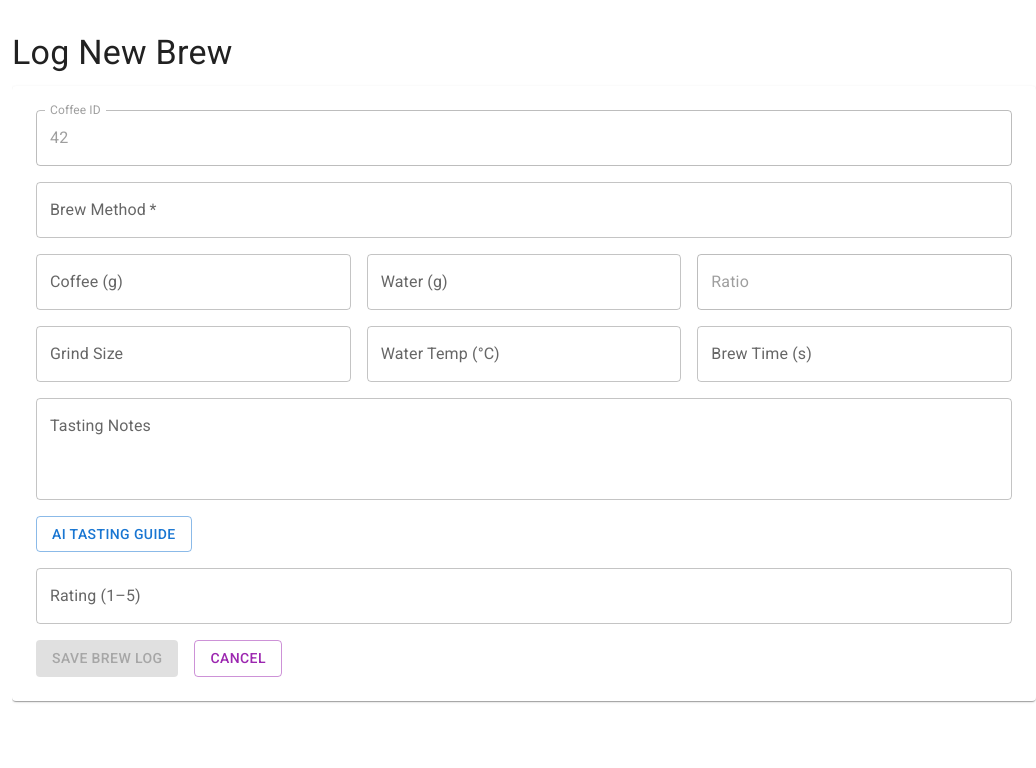
Scenario: BrewLogForm › shows next-time recommendation CTA after successful save
This screenshot has width=1036, height=768.
Expected: the button with test id "submit-brewlog" is disabled, [36,640,178,677]
Type "V60" into the field with test id "brew-method" at (524, 210), box [36,182,1012,238]
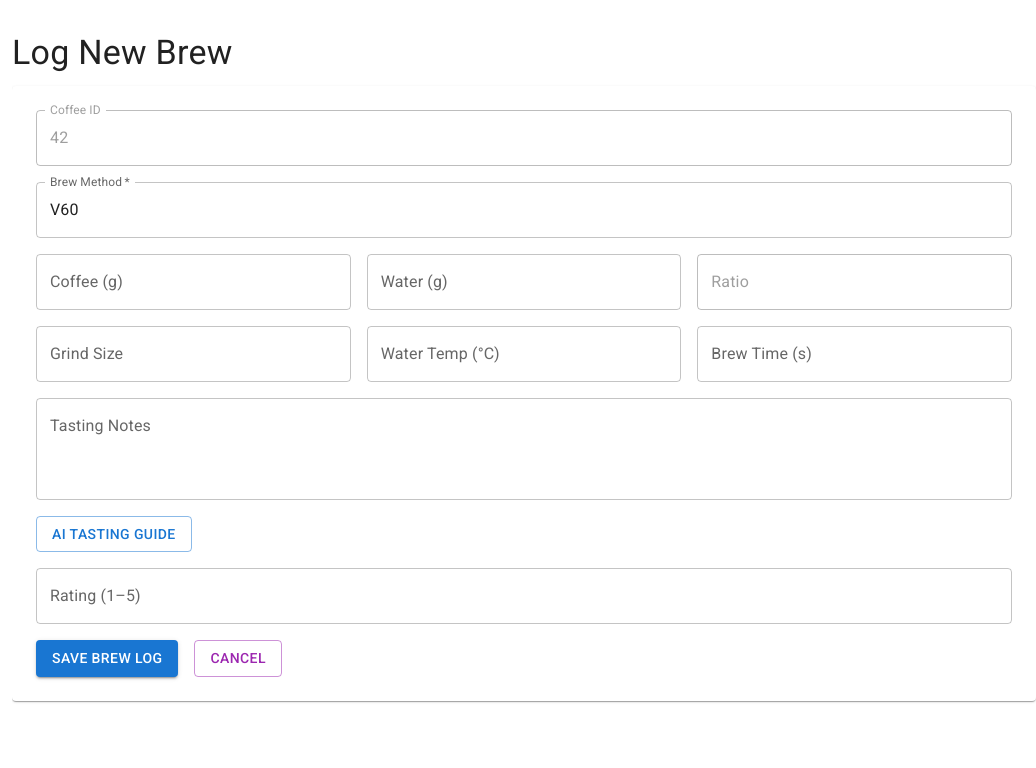
Type "15" into the field with test id "coffee-weight" at (193, 282), box [36,254,351,310]
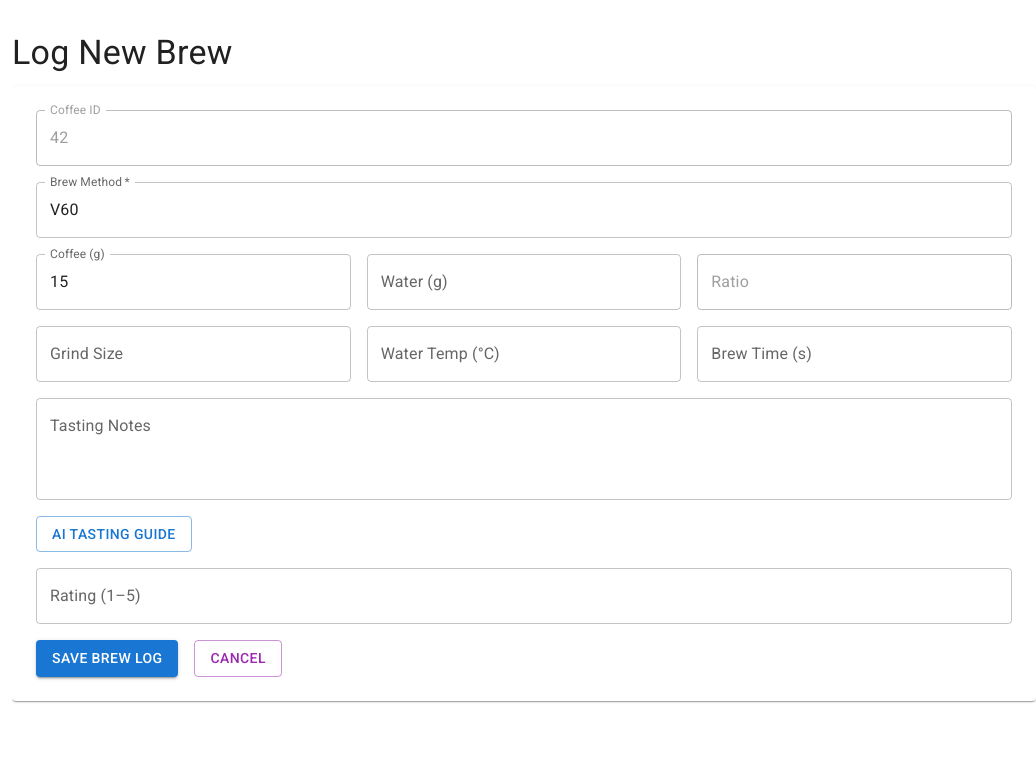
Type "250" into the field with test id "water-weight" at (524, 282), box [367,254,681,310]
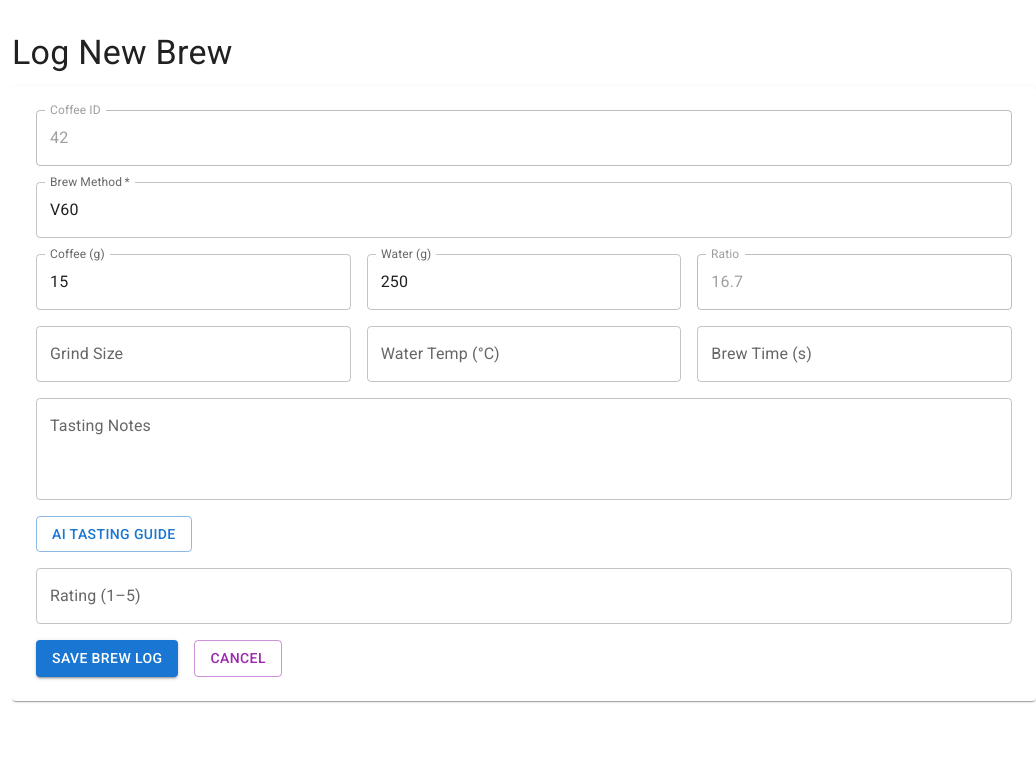
Expected: the heading "Log New Brew" is shown, [12,32,232,72]
Expected: the button with test id "submit-brewlog" is enabled
Click the button with test id "submit-brewlog" at (107, 659), box [36,640,178,677]
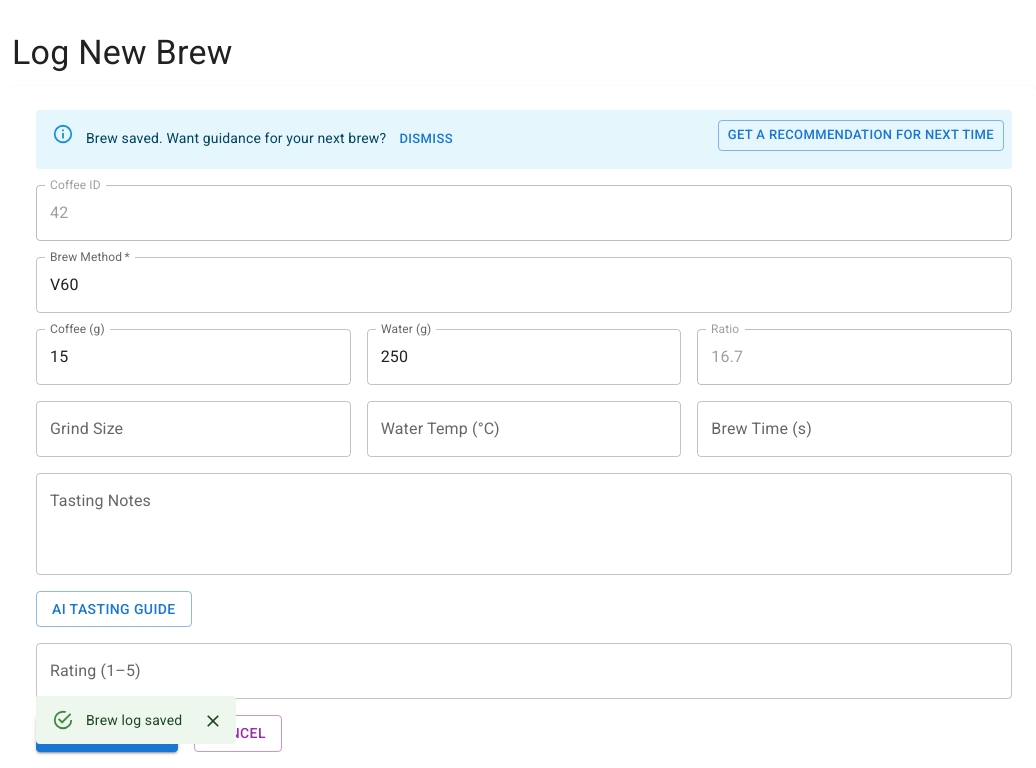
Expected: the message with test id "next-reco-cta" is shown, [36,110,1012,169]
